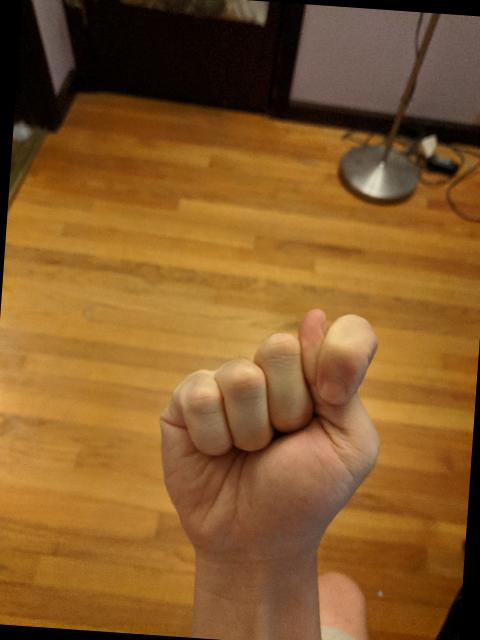T: (143, 292, 399, 571)
